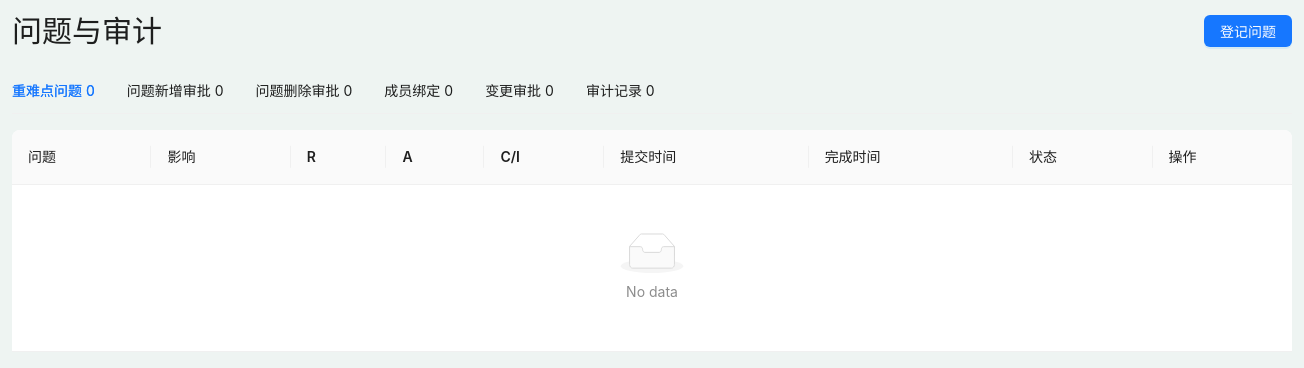
Scenario: IssuesAuditPage › lists and approves a pending issue creation
This screenshot has width=1304, height=368.
Click the tab "问题新增审批 0": [175, 91] box [127, 80, 224, 102]
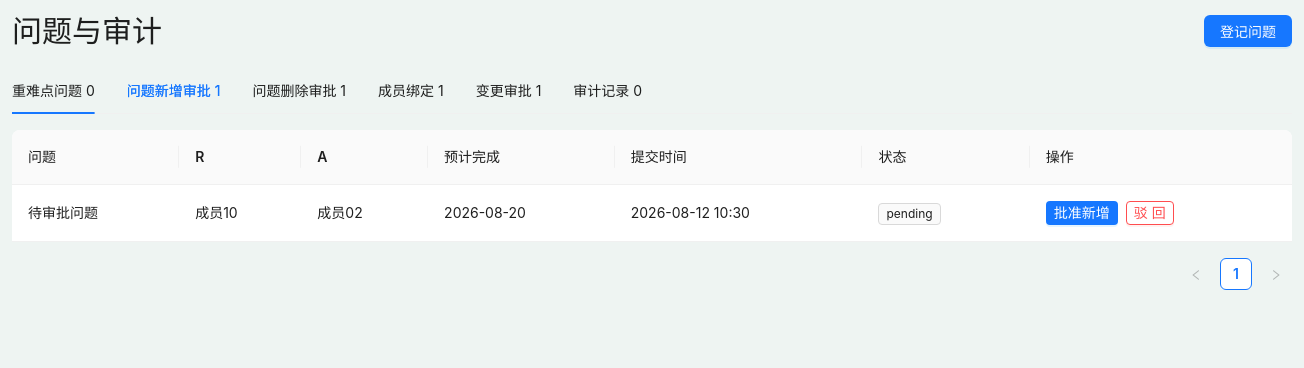
Check: the text "待审批问题" is shown, box [12, 185, 179, 242]
Click the button "批准新增": [1082, 213] box [1046, 201, 1118, 225]
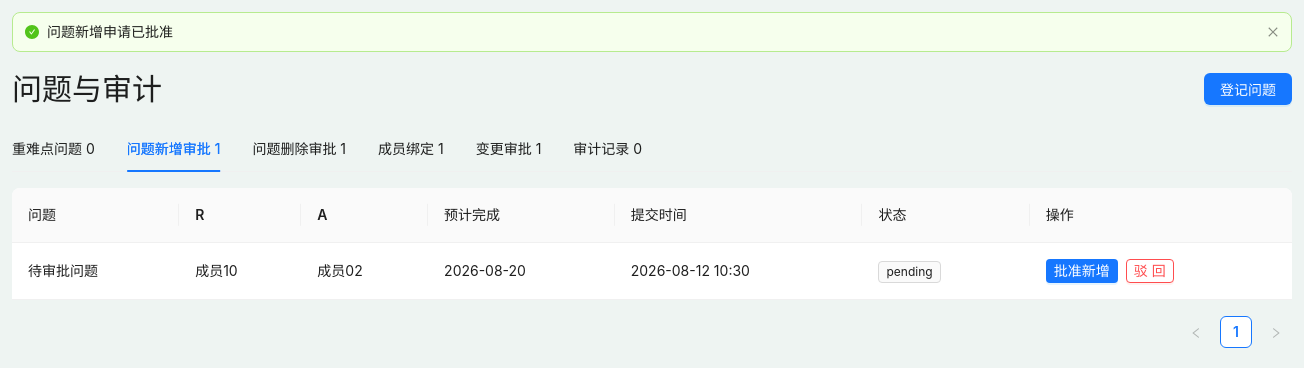
Check: the text "问题新增申请已批准" is shown, box [47, 23, 173, 40]
